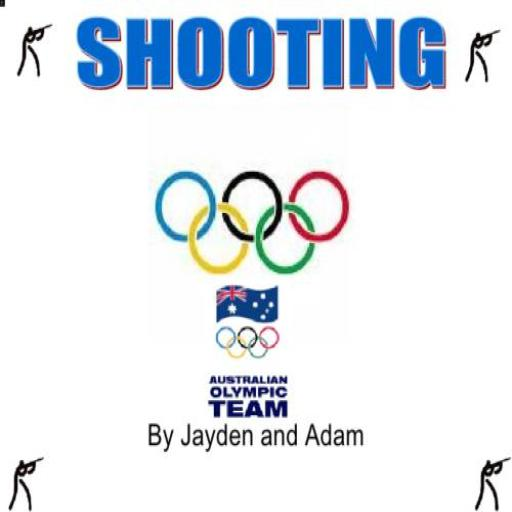shooting: (12, 19, 56, 83), (4, 452, 47, 511), (469, 452, 511, 511)
